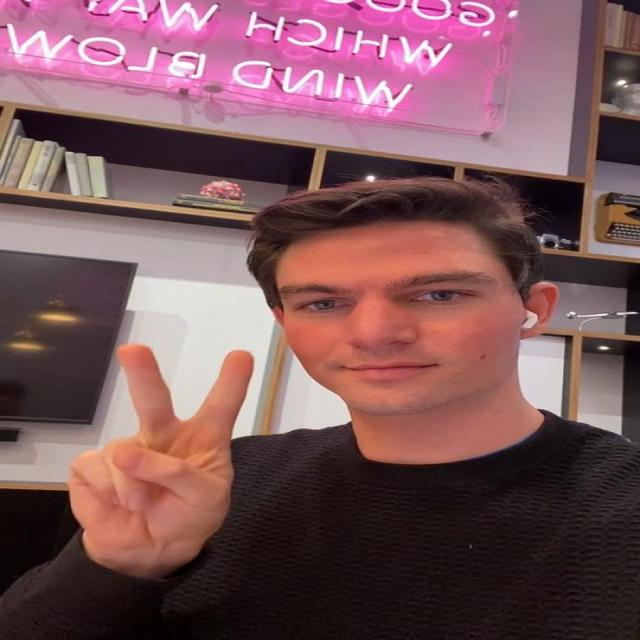face: (276, 232, 530, 418)
